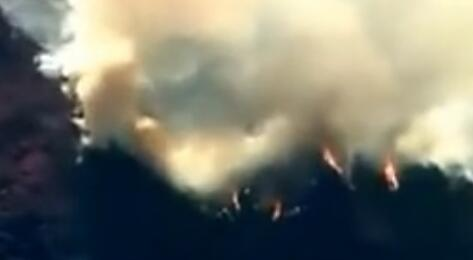fire: (219, 188, 286, 222), (316, 132, 351, 187), (381, 149, 403, 192)
smoke: (34, 1, 472, 201)
